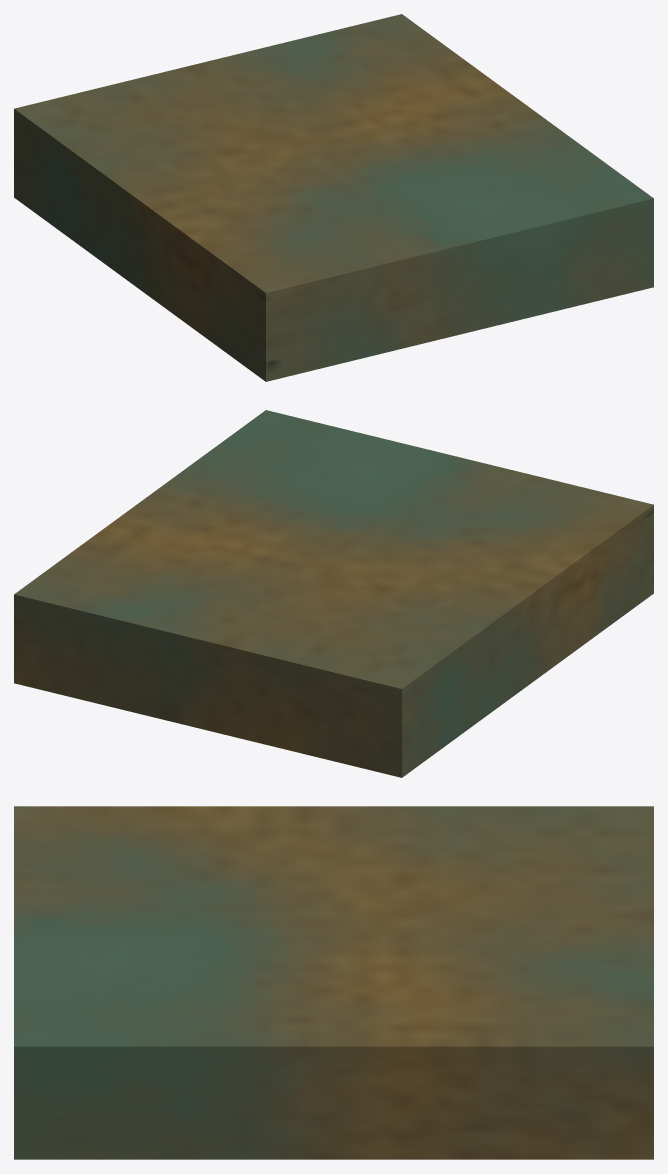
The model's file is Lantern cap__n12.glb.
3 views of the same model, one above another, from view 1: azimuth 30°, elevation 25°; view 2: azimuth 150°, elevation 25°; view 3: azimuth 270°, elevation 25° (orthographic). The views are drawn at different scales.
Parts seen in each view (by area): view 1: Lantern cap; view 2: Lantern cap; view 3: Lantern cap.
Part boxes in pixels (x1,y1,x2,y2): Lantern cap: [14, 14, 653, 381]; Lantern cap: [14, 410, 653, 777]; Lantern cap: [14, 806, 653, 1159].
Bounding box in the file's own units: 0.32 × 0.07 × 0.36.
Materials: 1 (1 with a texture image).
